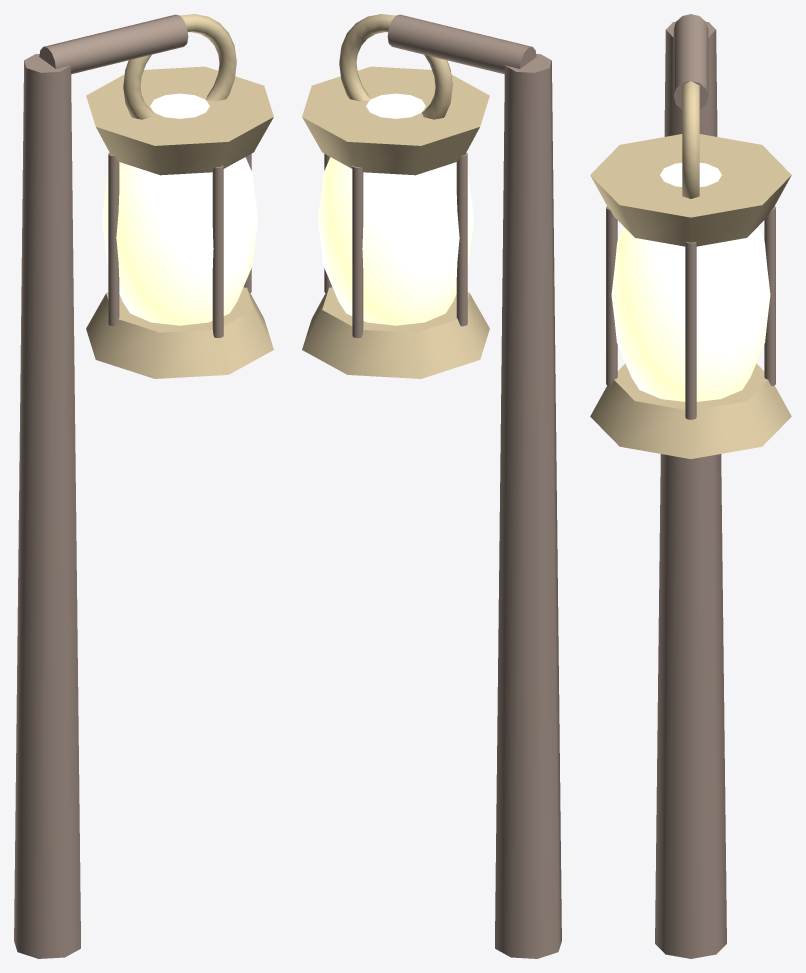
Rendered from prop-lantern.glb.
The picture shows the model from 3 angles, left to right: view 1: azimuth 30°, elevation 25°; view 2: azimuth 150°, elevation 25°; view 3: azimuth 270°, elevation 25°; orthographic projection. The views are drawn at different scales.
Visible parts, largest first — view 1: lantern, Group_2; view 2: lantern, Group_2; view 3: Group_2, lantern.
Part boxes in pixels (<box>): lantern: <box>14,14,188,958</box>; Group_2: <box>86,14,273,378</box>; lantern: <box>387,14,561,958</box>; Group_2: <box>302,14,489,378</box>; Group_2: <box>590,81,791,458</box>; lantern: <box>655,14,726,958</box>.
Size of the model in its own units: 0.41 by 1.42 by 0.28.
